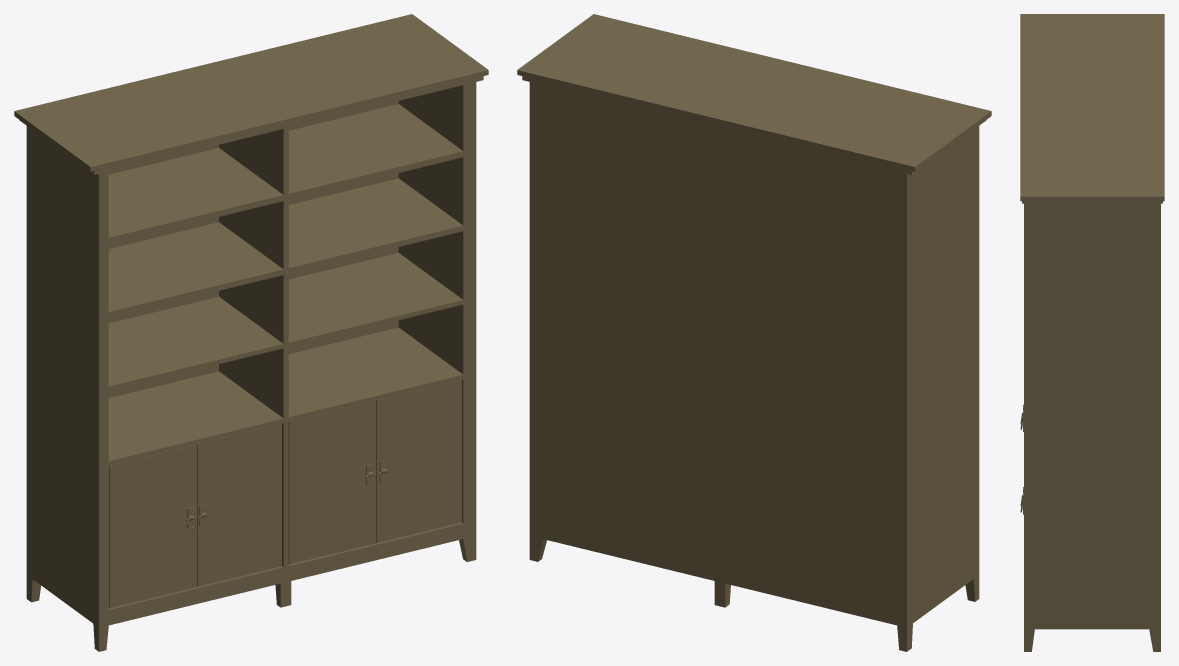
File: Bookshelf_low.fbx
The picture shows the model from 3 angles, left to right: view 1: azimuth 30°, elevation 25°; view 2: azimuth 150°, elevation 25°; view 3: azimuth 270°, elevation 25°; orthographic projection. The views are drawn at different scales.
Parts seen in each view (by area): view 1: bookshelf_low; view 2: bookshelf_low; view 3: bookshelf_low.
Part boxes in pixels (x1,y1,x2,y2): bookshelf_low: (14,14,488,651); bookshelf_low: (517,14,991,651); bookshelf_low: (1020,14,1164,651).
Bounding box in the file's own units: 1.86 × 2.19 × 0.6212.
